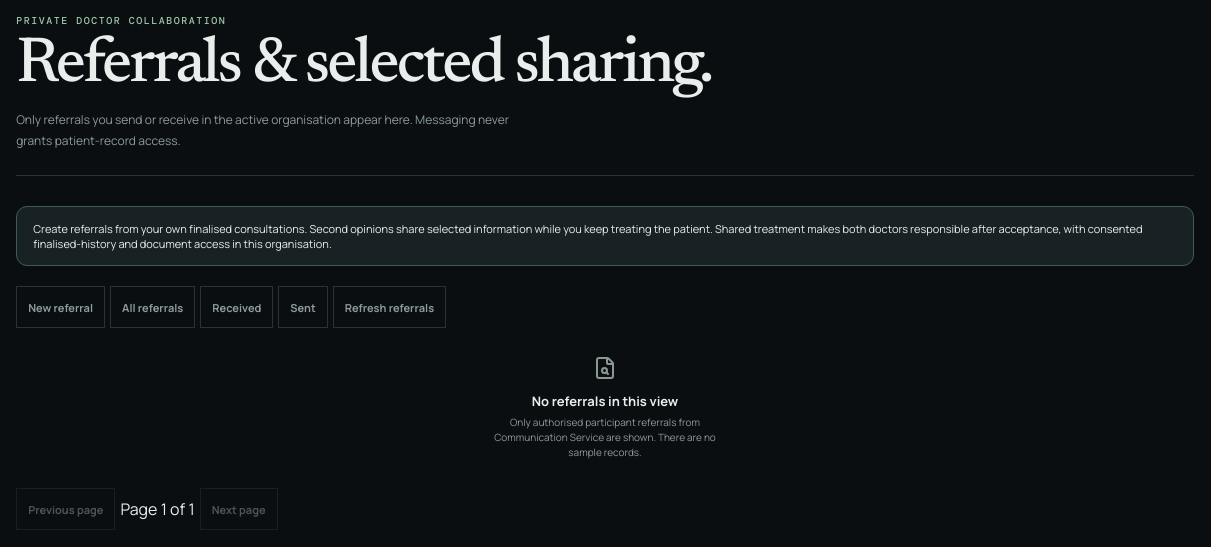
it: uses server direction pagination and displays empty/error states without seeded referrals
This screenshot has width=1211, height=547.
Expected: the text "No referrals in this view" is shown, left=532, top=392, right=678, bottom=410
Click the button "Received". click: (237, 307)
box: left=200, top=286, right=273, bottom=328
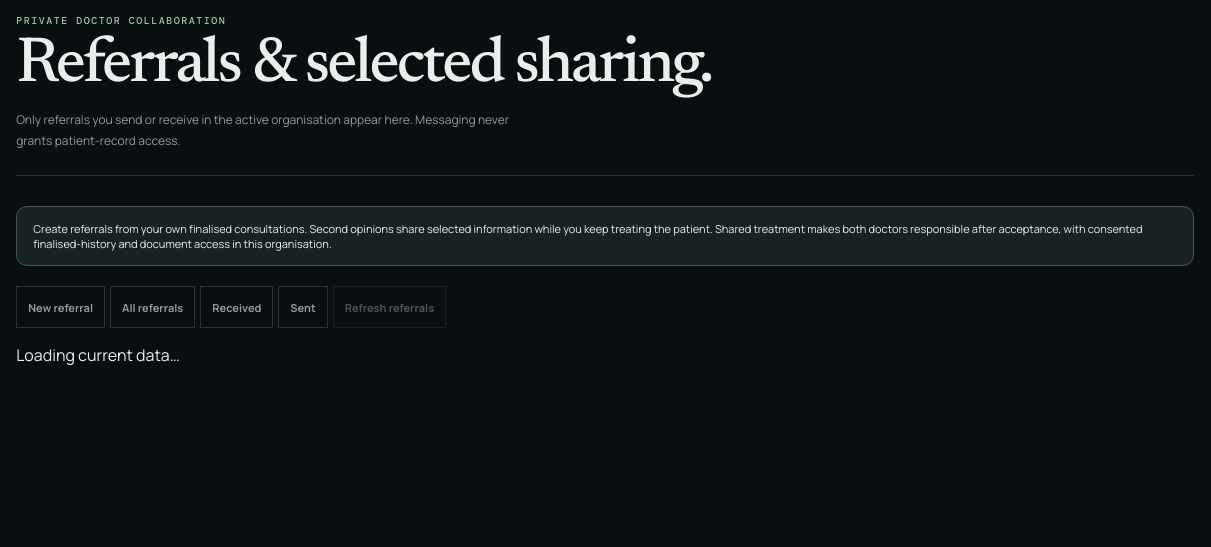
Click the button "Sent". click: (303, 307)
box: left=278, top=286, right=328, bottom=328
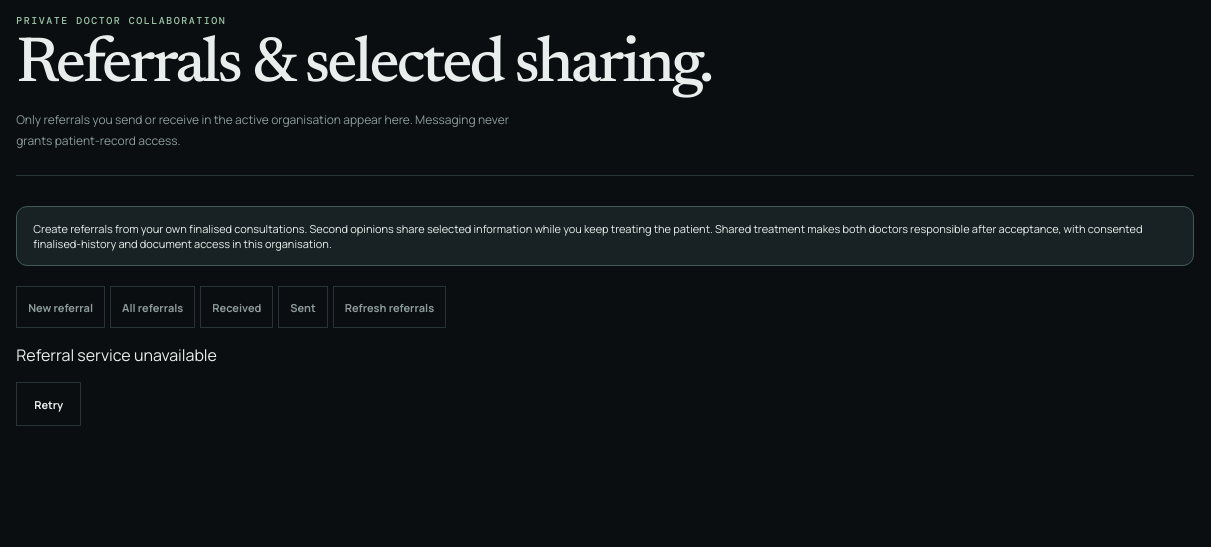
Expected: the message shows "Referral service unavailable", left=16, top=344, right=217, bottom=366
